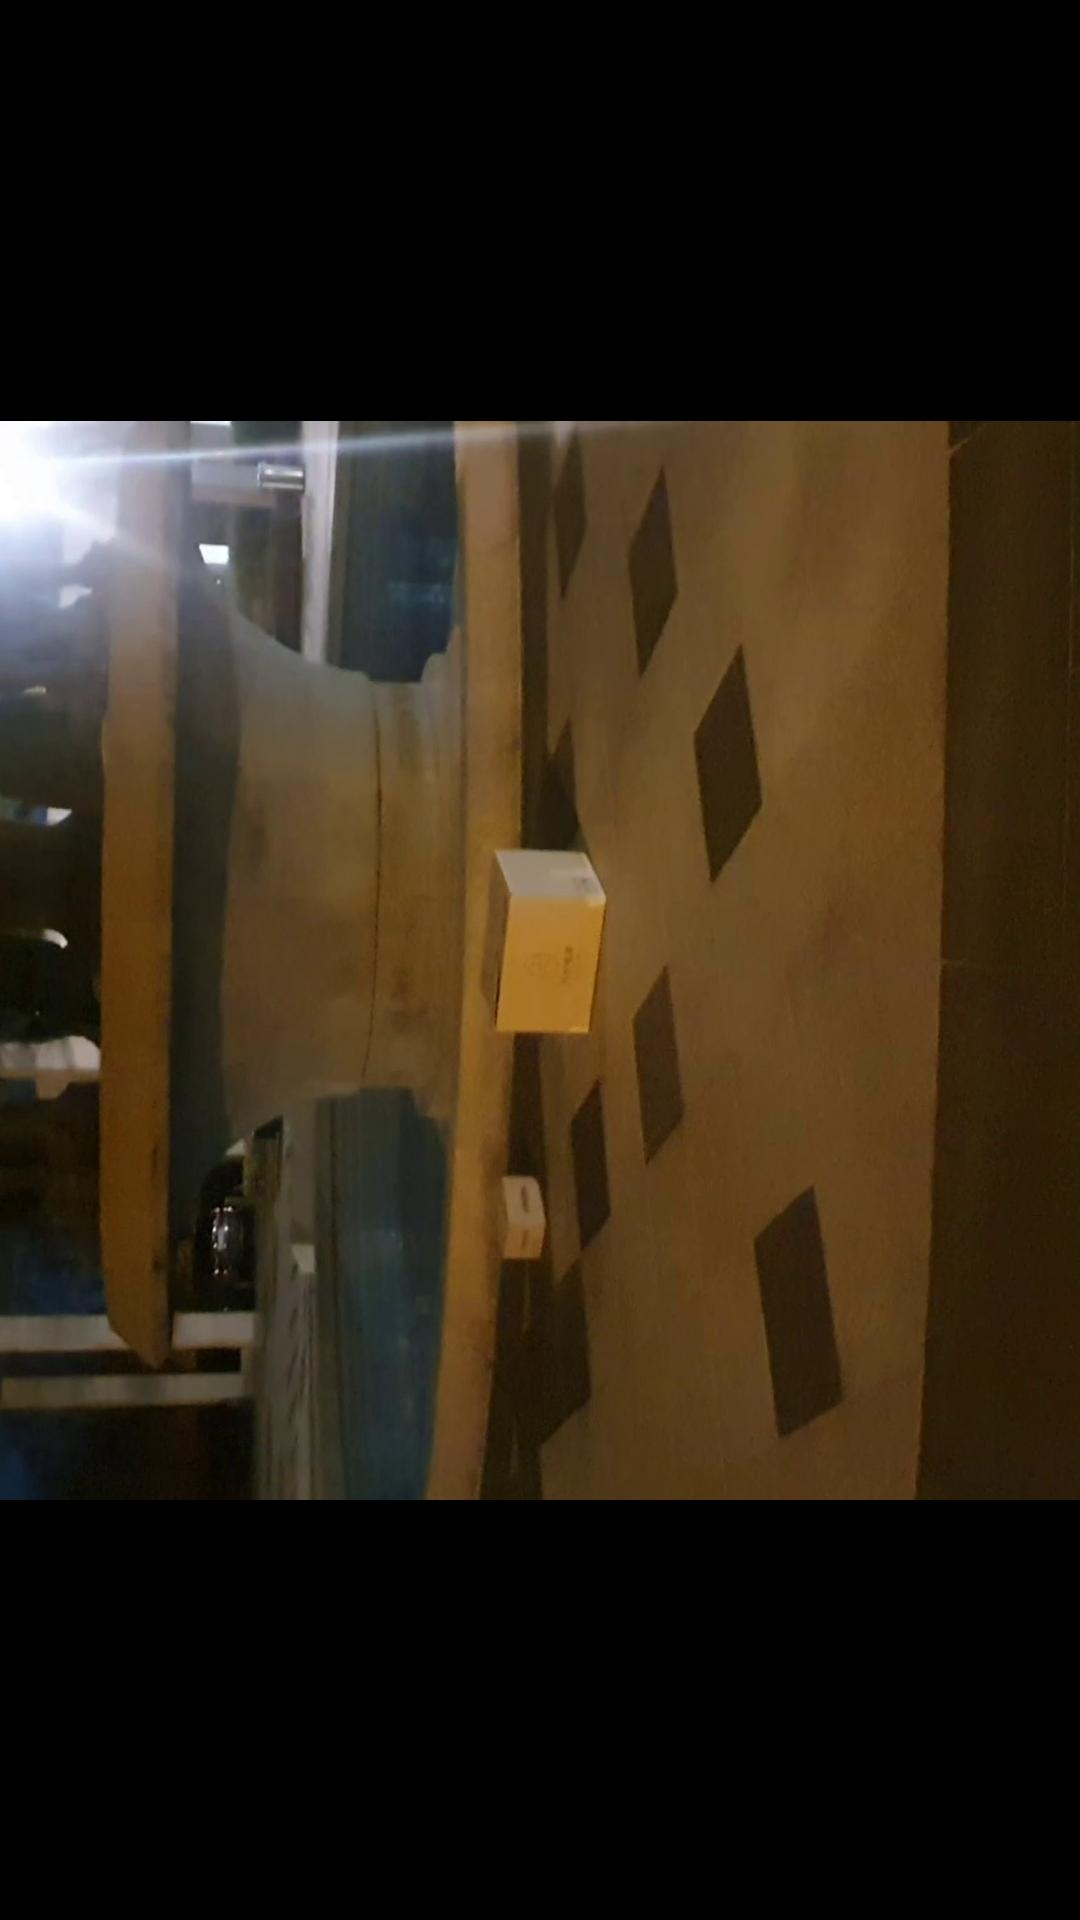Box: (480, 837, 615, 1052), (475, 1170, 553, 1267)
